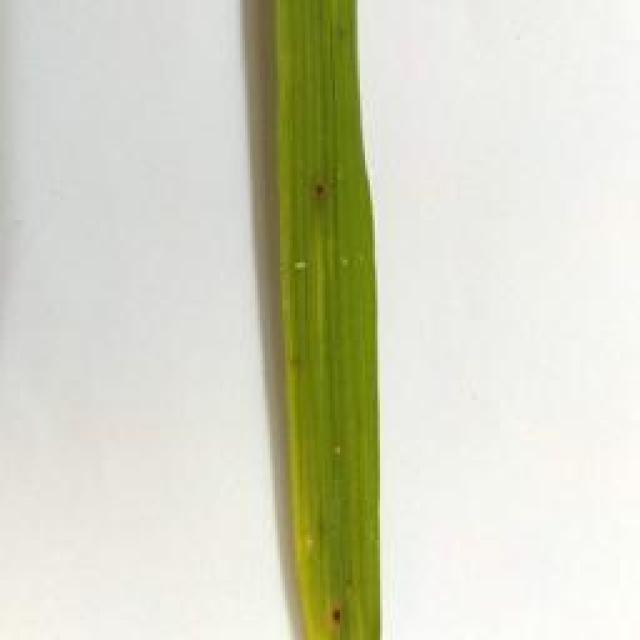Brown_Spot: (300, 149, 343, 228), (314, 601, 360, 631), (282, 340, 311, 374)
